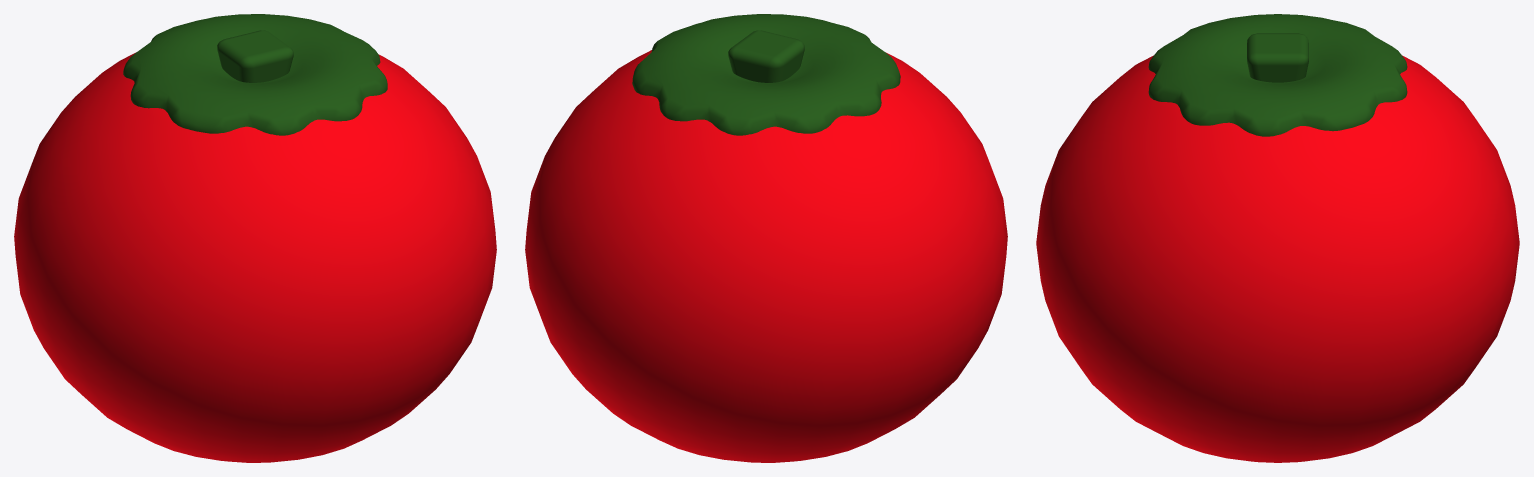
The model's file is tomato.glb.
3 views of the same model, side by side, from view 1: azimuth 30°, elevation 25°; view 2: azimuth 150°, elevation 25°; view 3: azimuth 270°, elevation 25° (orthographic).
Parts seen in each view (by area): view 1: tomato; view 2: tomato; view 3: tomato.
Boxes of the visible parts, box(x1,y1,x2,y2) form: tomato: box(14, 14, 496, 462); tomato: box(525, 14, 1007, 462); tomato: box(1036, 14, 1519, 462).
Size of the model in its own units: 0.6235 by 0.54 by 0.6235.
